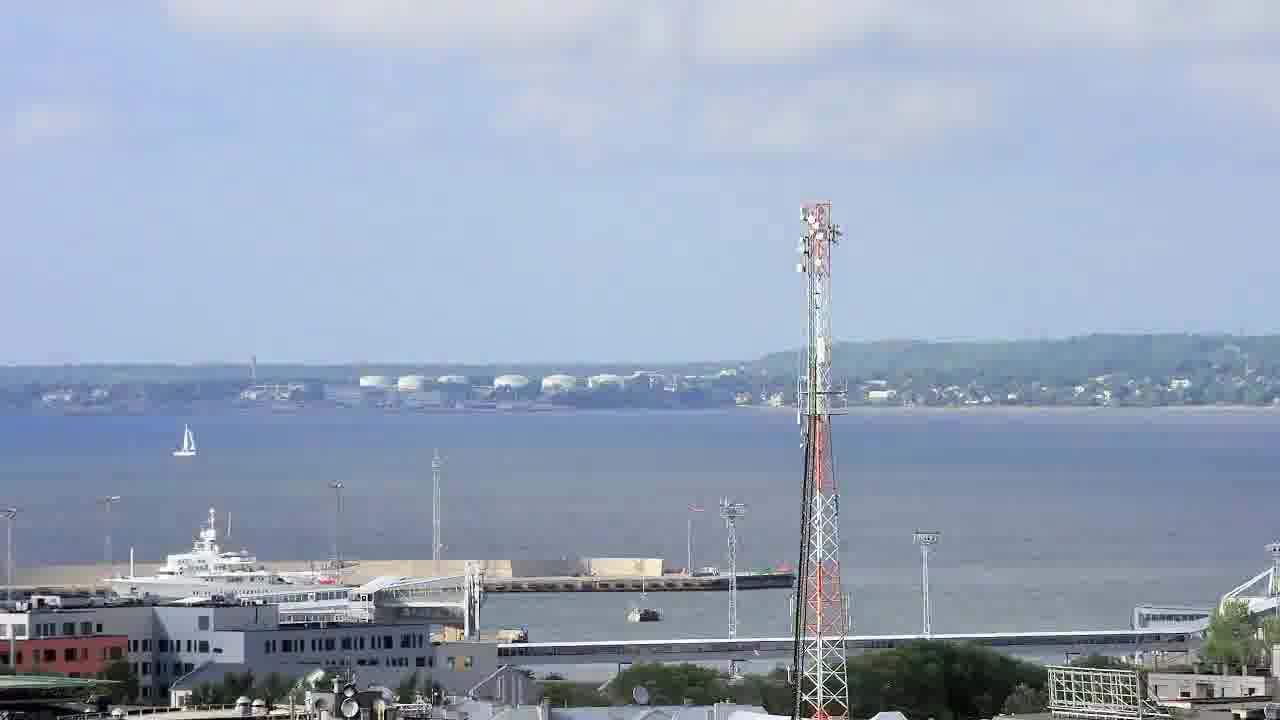type-0: (615, 585, 674, 631)
type-2: (162, 411, 212, 463)
type-3: (98, 503, 361, 603)
